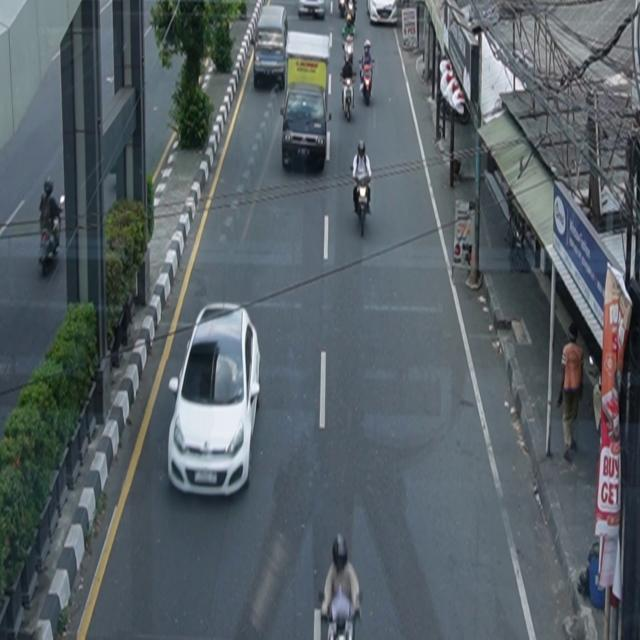car: (168, 302, 262, 498), (281, 82, 331, 172), (367, 1, 398, 26), (299, 1, 326, 20)
